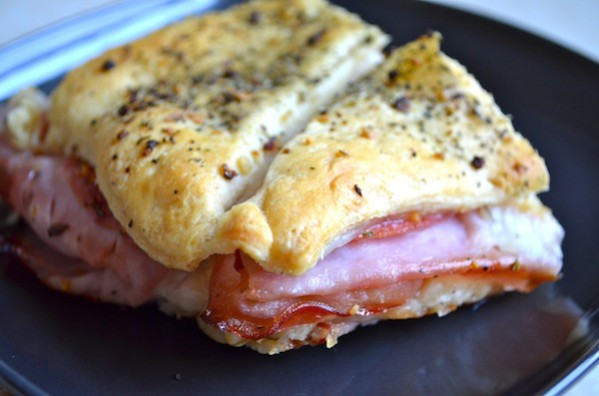sandwich: (1, 1, 596, 377)
